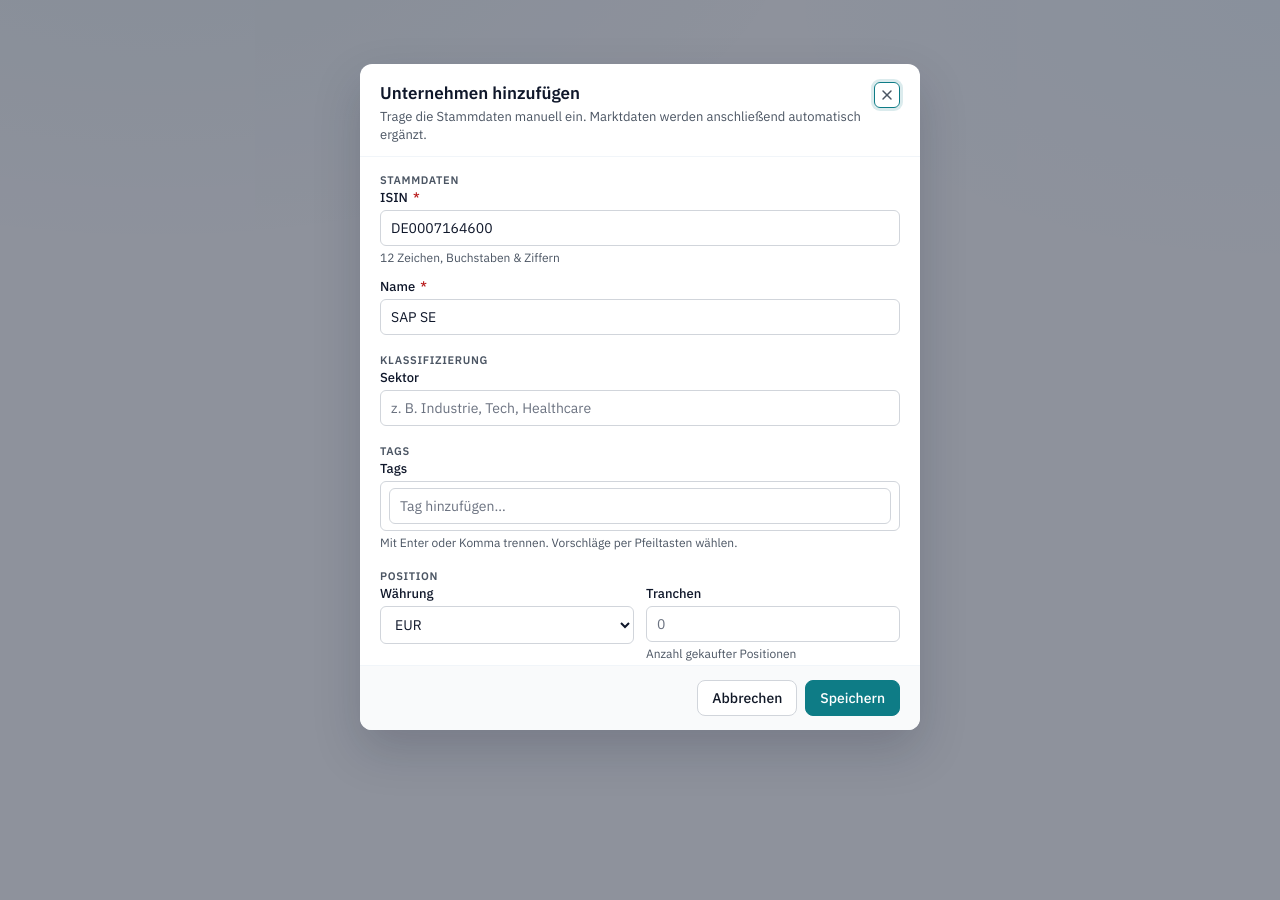
Scenario: CreateStockModal › re-enables the save button and keeps modal open after a failed POST
Click the button "Speichern": {"x": 853, "y": 698} [805, 680, 900, 716]
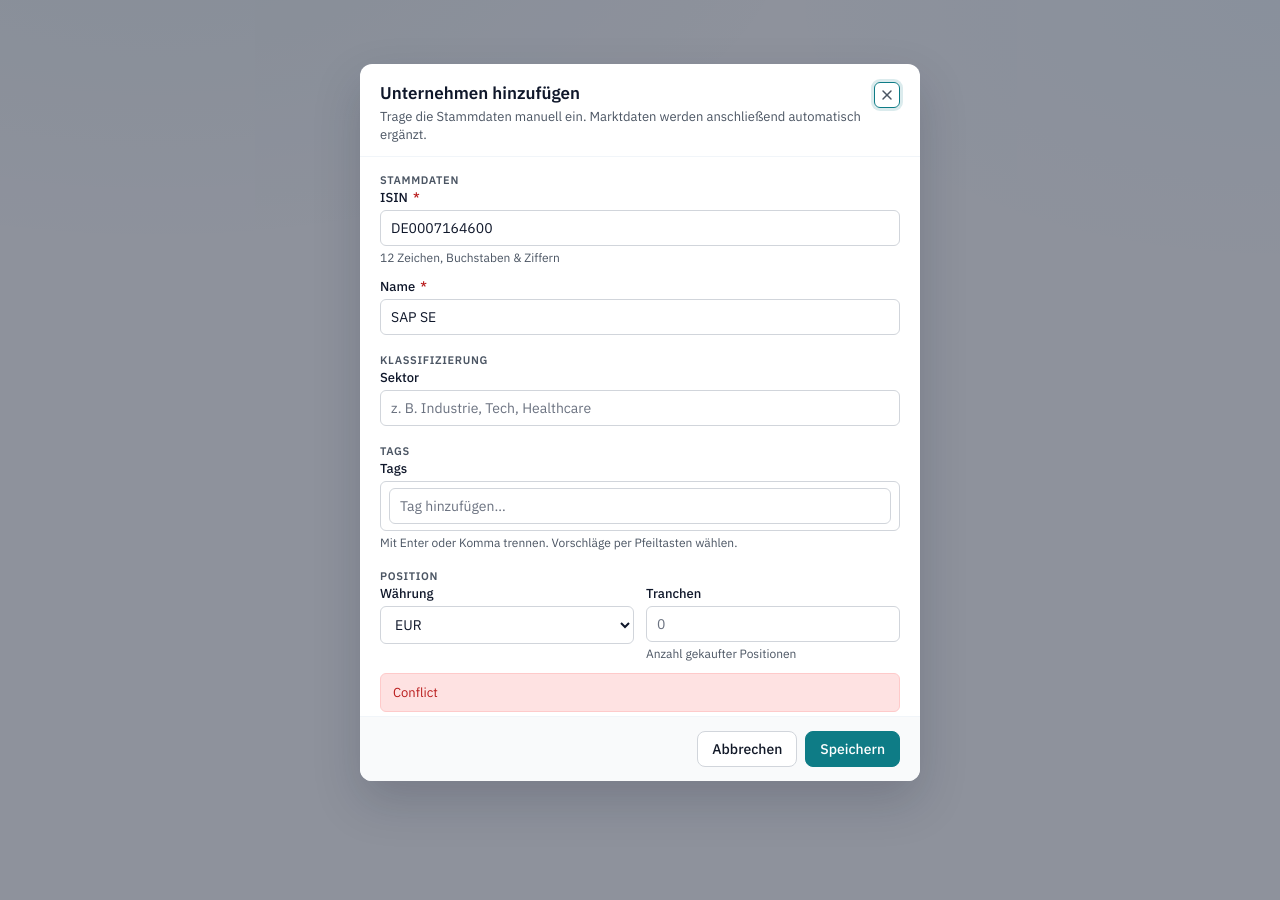
Expected: the dialog is shown, [360, 64, 920, 781]
Result: the message reads "Conflict" at [393, 684, 438, 701]
